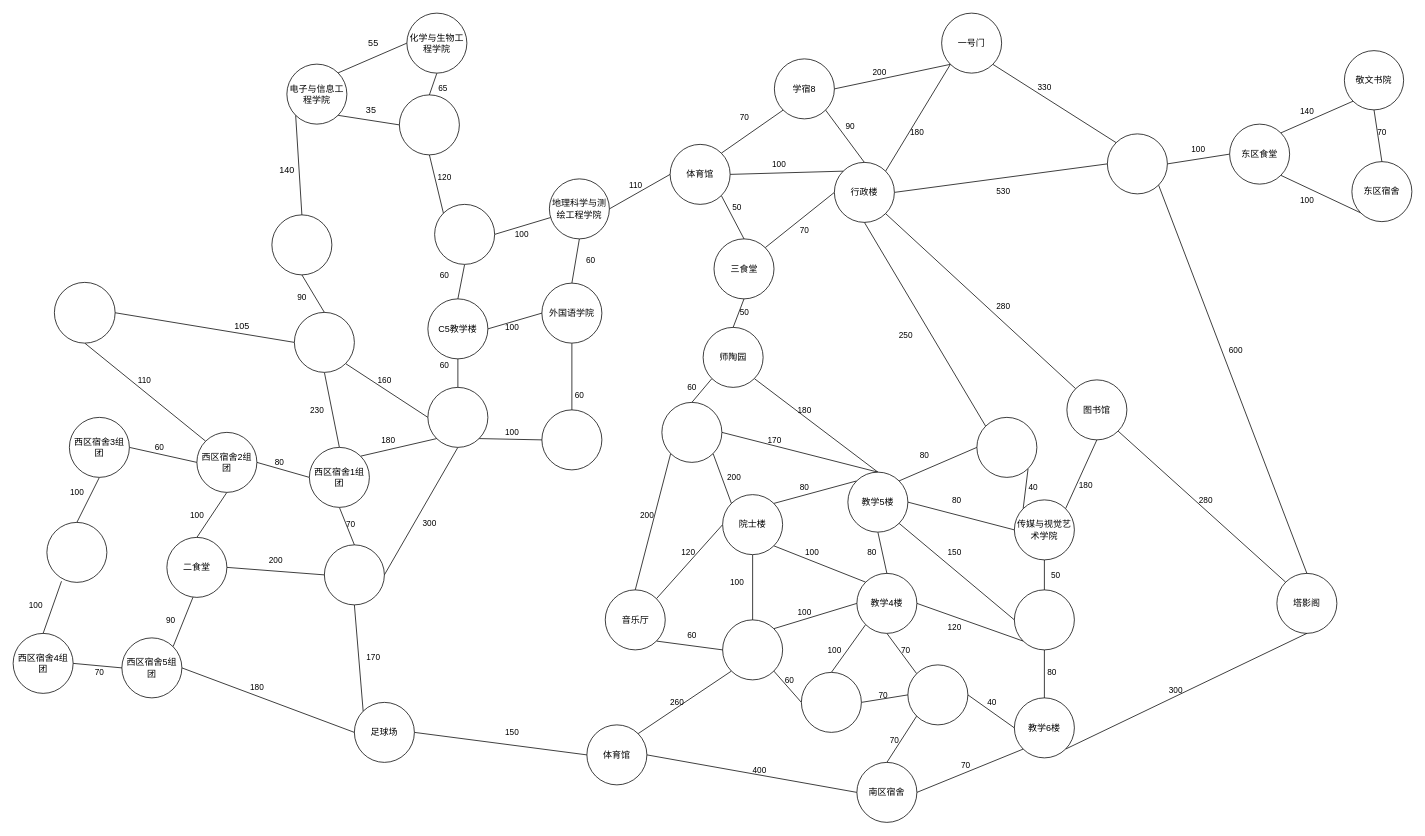
Image size: 1425x836. Some labels were removed from this diagram. Here are the shapes that lost their labels. From the top down, the box of each, then its label:
(399, 94, 459, 155): 逸夫楼
(1107, 133, 1167, 194): 东区快递点
(271, 214, 332, 275): 环境生物技术研究所
(434, 204, 495, 264): C4教学楼
(54, 282, 115, 343): 二号门
(294, 312, 354, 372): 环境科学与工程学院
(427, 387, 488, 447): C6教学楼
(661, 402, 722, 462): 学宿3
(541, 409, 602, 470): 商学院
(976, 417, 1037, 477): 校医院
(46, 522, 107, 582): 员工宿舍
(324, 544, 384, 605): 西区快递点
(1014, 589, 1074, 650): 教学7楼
(722, 619, 783, 680): 社会发展与公共管理学院
(801, 672, 861, 732): 教学2楼
(907, 664, 968, 725): 教学3楼
